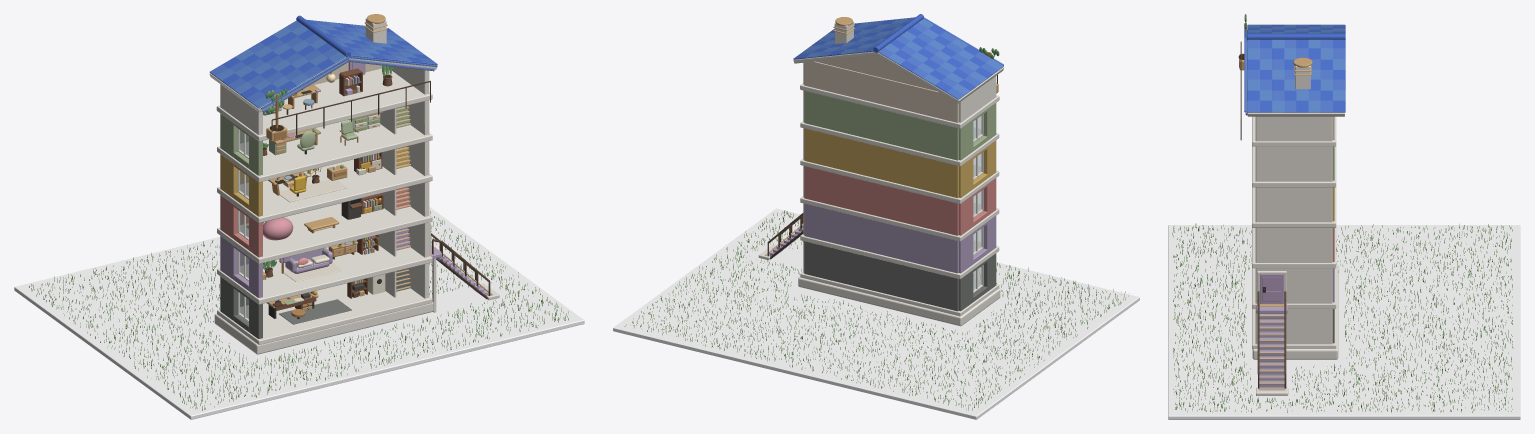
File: house.glb
The picture shows the model from 3 angles, left to right: view 1: azimuth 30°, elevation 25°; view 2: azimuth 150°, elevation 25°; view 3: azimuth 270°, elevation 25°; orthographic projection. The views are drawn at different scales.
Visible parts, largest first — view 1: GROUND, WEB_BATCH_002_FINISH__STRUCTURE__ivory plaster, LANDSCAPE_GRASS_BLADES, WEB_BATCH_054_FINISH__ROOF__roof blue gray, WEB_BATCH_056_FINISH__ROOF__roof tile blue dark, WEB_BATCH_055_FINISH__ROOF__roof tile blue light, WEB_BATCH_006_FINISH__WOOD__light oak, WEB_BATCH_003_FINISH__PAINTED__ivory plaster, WEB_BATCH_036_FINISH__FABRIC__paper, WEB_BATCH_001_FINISH__WALL__basement concrete, WEB_BATCH_012_FINISH__WALL__office mustard, WEB_BATCH_010_FINISH__WALL__playroom coral (+13 smaller); view 2: GROUND, WEB_BATCH_002_FINISH__STRUCTURE__ivory plaster, LANDSCAPE_GRASS_BLADES, WEB_BATCH_001_FINISH__WALL__basement concrete, WEB_BATCH_012_FINISH__WALL__office mustard, WEB_BATCH_008_FINISH__WALL__welcome lavender, WEB_BATCH_010_FINISH__WALL__playroom coral, WEB_BATCH_014_FINISH__WALL__studio sage, WEB_BATCH_048_FINISH__WALL__attic cream, WEB_BATCH_056_FINISH__ROOF__roof tile blue dark, WEB_BATCH_054_FINISH__ROOF__roof blue gray, WEB_BATCH_055_FINISH__ROOF__roof tile blue light (+1 smaller); view 3: GROUND, WEB_BATCH_002_FINISH__STRUCTURE__ivory plaster, LANDSCAPE_GRASS_BLADES, WEB_BATCH_056_FINISH__ROOF__roof tile blue dark, WEB_BATCH_054_FINISH__ROOF__roof blue gray, WEB_BATCH_055_FINISH__ROOF__roof tile blue light, WEB_BATCH_009_FINISH__PAINTED__welcome lavender, WEB_BATCH_051_UPGRADE metal - dark bronze, WEB_BATCH_065_UPGRADE wood - pale oak, WEB_BATCH_049_FINISH__PLASTIC__door lavender, WEB_BATCH_052_FINISH__ROOF__ivory plaster.
Part boxes in pixels (left/top/right/bottom): GROUND: left=14, top=207, right=584, bottom=419; WEB_BATCH_002_FINISH__STRUCTURE__ivory plaster: left=214, top=18, right=499, bottom=354; LANDSCAPE_GRASS_BLADES: left=29, top=211, right=568, bottom=410; WEB_BATCH_054_FINISH__ROOF__roof blue gray: left=209, top=20, right=437, bottom=109; WEB_BATCH_056_FINISH__ROOF__roof tile blue dark: left=222, top=15, right=430, bottom=98; WEB_BATCH_055_FINISH__ROOF__roof tile blue light: left=215, top=21, right=424, bottom=108; WEB_BATCH_006_FINISH__WOOD__light oak: left=263, top=14, right=433, bottom=310; WEB_BATCH_003_FINISH__PAINTED__ivory plaster: left=378, top=108, right=396, bottom=297; WEB_BATCH_036_FINISH__FABRIC__paper: left=279, top=180, right=346, bottom=281; WEB_BATCH_001_FINISH__WALL__basement concrete: left=220, top=276, right=262, bottom=338; WEB_BATCH_012_FINISH__WALL__office mustard: left=220, top=154, right=262, bottom=216; WEB_BATCH_010_FINISH__WALL__playroom coral: left=220, top=195, right=262, bottom=257; GROUND: left=613, top=208, right=1139, bottom=419; WEB_BATCH_002_FINISH__STRUCTURE__ivory plaster: left=758, top=21, right=1000, bottom=326; LANDSCAPE_GRASS_BLADES: left=624, top=210, right=1129, bottom=410; WEB_BATCH_001_FINISH__WALL__basement concrete: left=804, top=241, right=996, bottom=311; WEB_BATCH_012_FINISH__WALL__office mustard: left=804, top=128, right=996, bottom=198; WEB_BATCH_008_FINISH__WALL__welcome lavender: left=804, top=203, right=996, bottom=273; WEB_BATCH_010_FINISH__WALL__playroom coral: left=804, top=166, right=996, bottom=235; WEB_BATCH_014_FINISH__WALL__studio sage: left=804, top=91, right=996, bottom=160; WEB_BATCH_048_FINISH__WALL__attic cream: left=804, top=55, right=958, bottom=122; WEB_BATCH_056_FINISH__ROOF__roof tile blue dark: left=793, top=14, right=992, bottom=92; WEB_BATCH_054_FINISH__ROOF__roof blue gray: left=800, top=17, right=1003, bottom=99; WEB_BATCH_055_FINISH__ROOF__roof tile blue light: left=805, top=18, right=1003, bottom=94; GROUND: left=1168, top=225, right=1520, bottom=419; WEB_BATCH_002_FINISH__STRUCTURE__ivory plaster: left=1252, top=66, right=1338, bottom=395; LANDSCAPE_GRASS_BLADES: left=1172, top=223, right=1513, bottom=412; WEB_BATCH_056_FINISH__ROOF__roof tile blue dark: left=1247, top=24, right=1345, bottom=112; WEB_BATCH_054_FINISH__ROOF__roof blue gray: left=1244, top=24, right=1345, bottom=112; WEB_BATCH_055_FINISH__ROOF__roof tile blue light: left=1247, top=24, right=1345, bottom=112; WEB_BATCH_009_FINISH__PAINTED__welcome lavender: left=1256, top=304, right=1287, bottom=388; WEB_BATCH_051_UPGRADE metal - dark bronze: left=1240, top=41, right=1286, bottom=388; WEB_BATCH_065_UPGRADE wood - pale oak: left=1258, top=65, right=1311, bottom=390; WEB_BATCH_049_FINISH__PLASTIC__door lavender: left=1260, top=274, right=1283, bottom=303; WEB_BATCH_052_FINISH__ROOF__ivory plaster: left=1247, top=112, right=1344, bottom=116.
Size of what is drawn, in the model's own units: 18 by 12.73 by 14.
